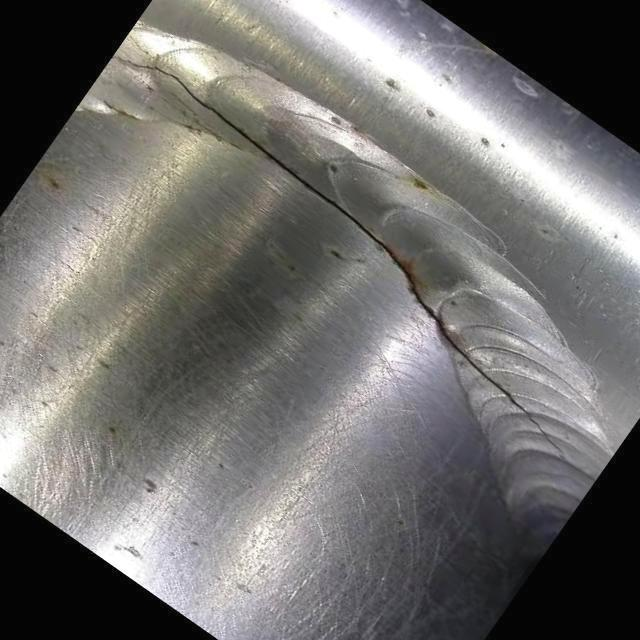defect: (115, 55, 577, 471)
